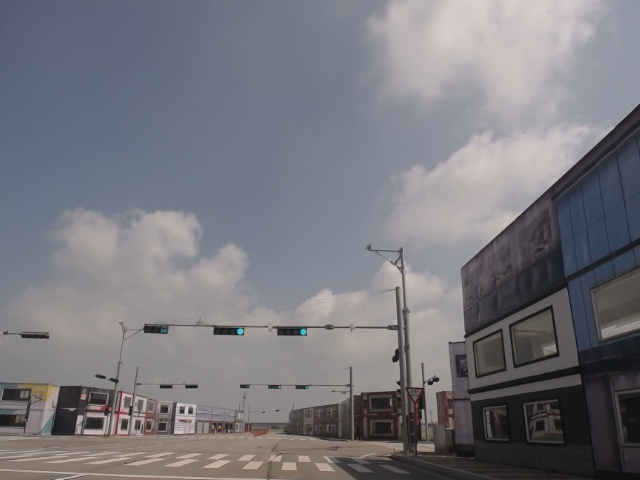straight_green_4: (276, 325, 307, 337), (213, 327, 244, 336)
